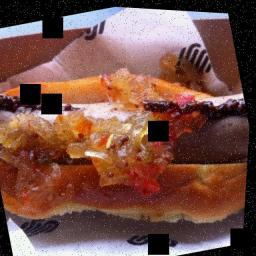hotdog: (161, 100, 252, 168), (0, 100, 29, 159)
